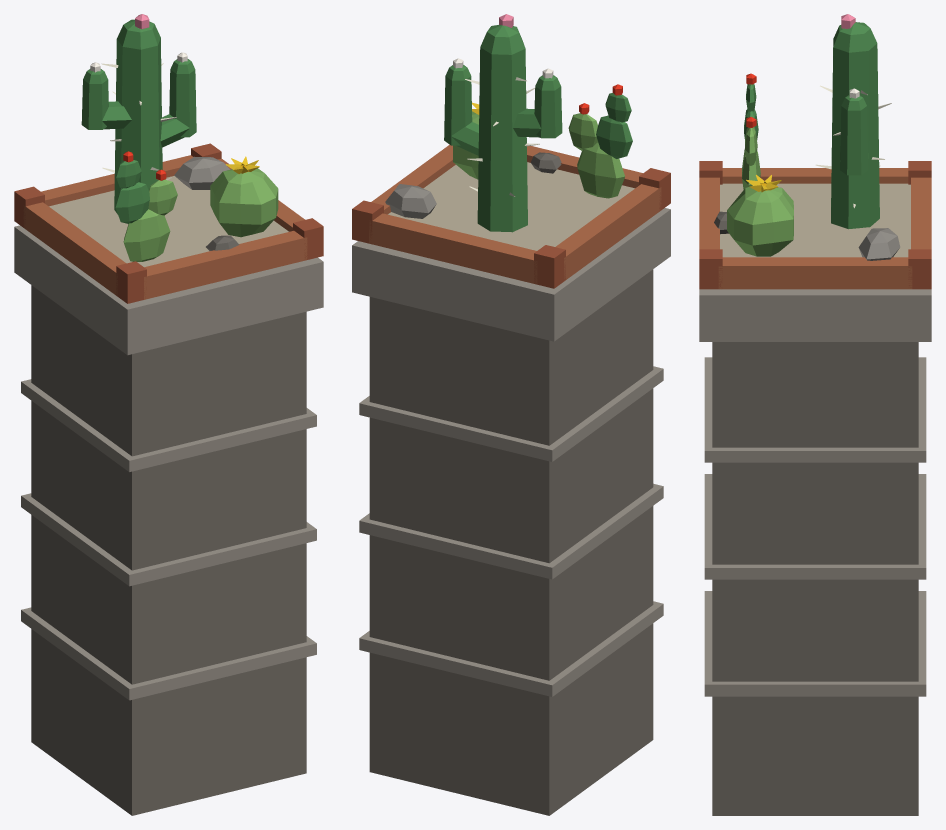
File: decor_cacti.glb
The picture shows the model from 3 angles, left to right: view 1: azimuth 30°, elevation 25°; view 2: azimuth 150°, elevation 25°; view 3: azimuth 270°, elevation 25°; orthographic projection. The views are drawn at different scales.
Visible parts, largest first — view 1: decor_cacti; view 2: decor_cacti; view 3: decor_cacti.
Boxes of the visible parts, left/top/right/bottom form: decor_cacti: left=14, top=14, right=323, bottom=815; decor_cacti: left=352, top=14, right=670, bottom=815; decor_cacti: left=699, top=14, right=931, bottom=815.
Bounding box in the file's own units: 1.8 × 6.44 × 1.8.
